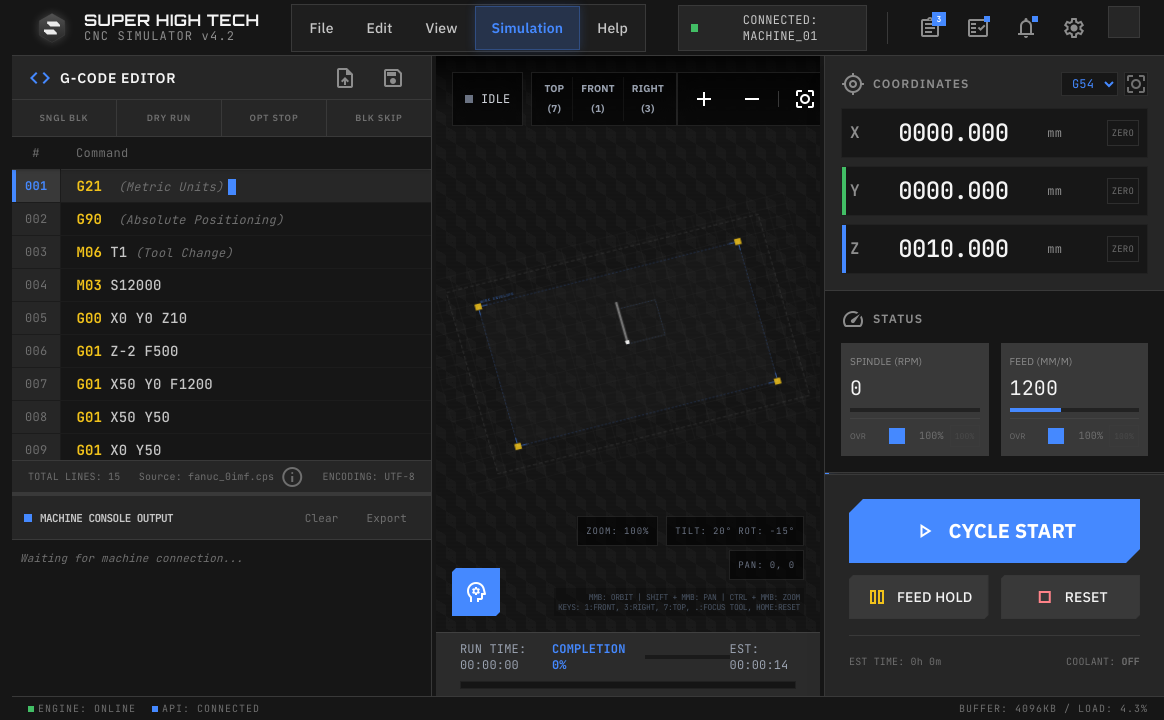
Test: CYCLE START fake-computing loading sequence › closes the loading modal and seeds the real Spindle RPM from the selected material -- not the old hardcoded 12,000
Click the button "CYCLE START" at (994, 531), box x1=849 y1=499 x2=1140 y2=563
Wait 1500 ms
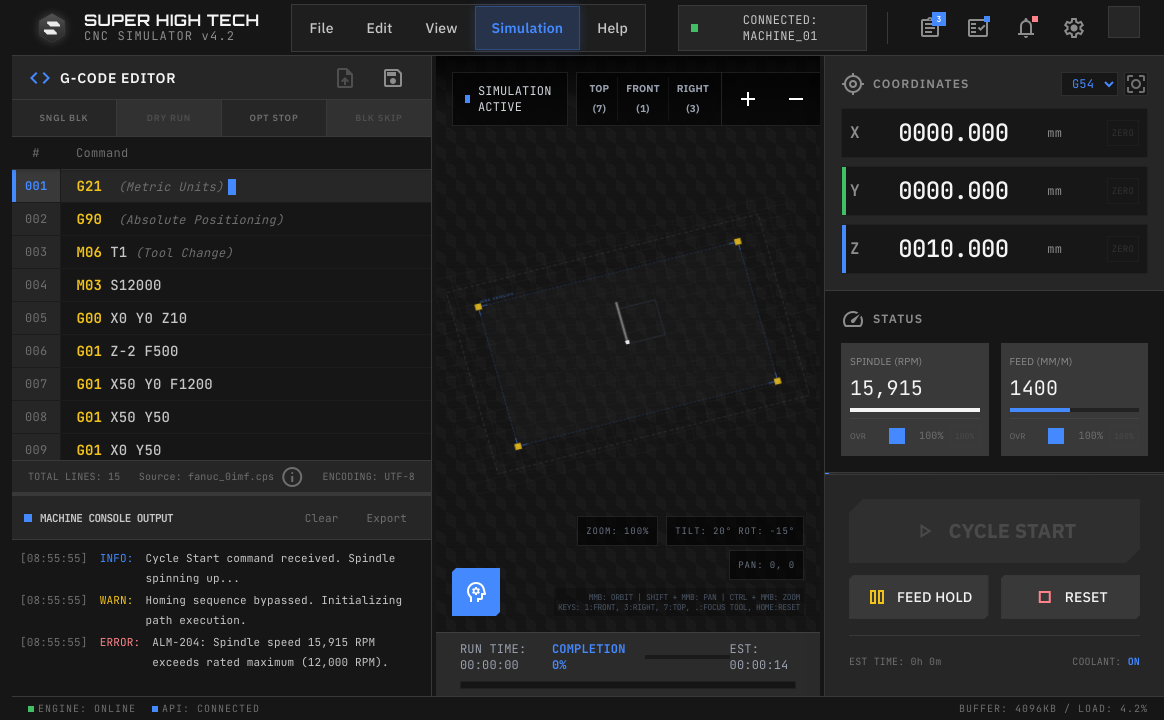
Result: the text "15,915" is shown at x1=850 y1=374 x2=923 y2=402
